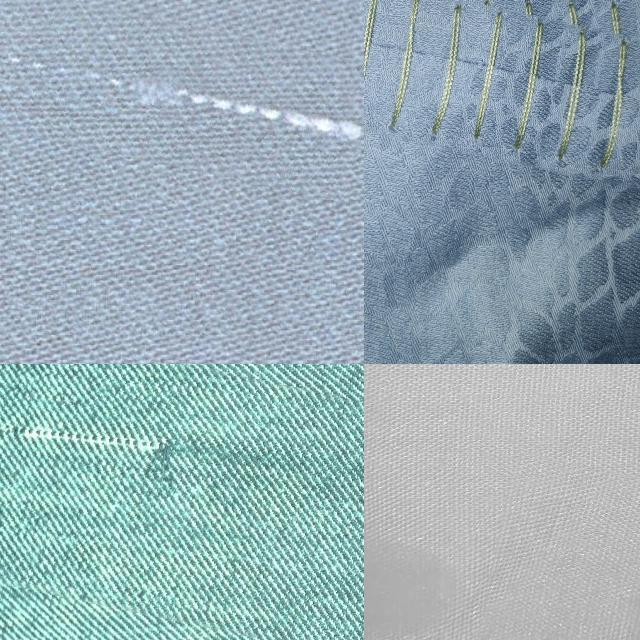defect: (359, 4, 639, 184)
